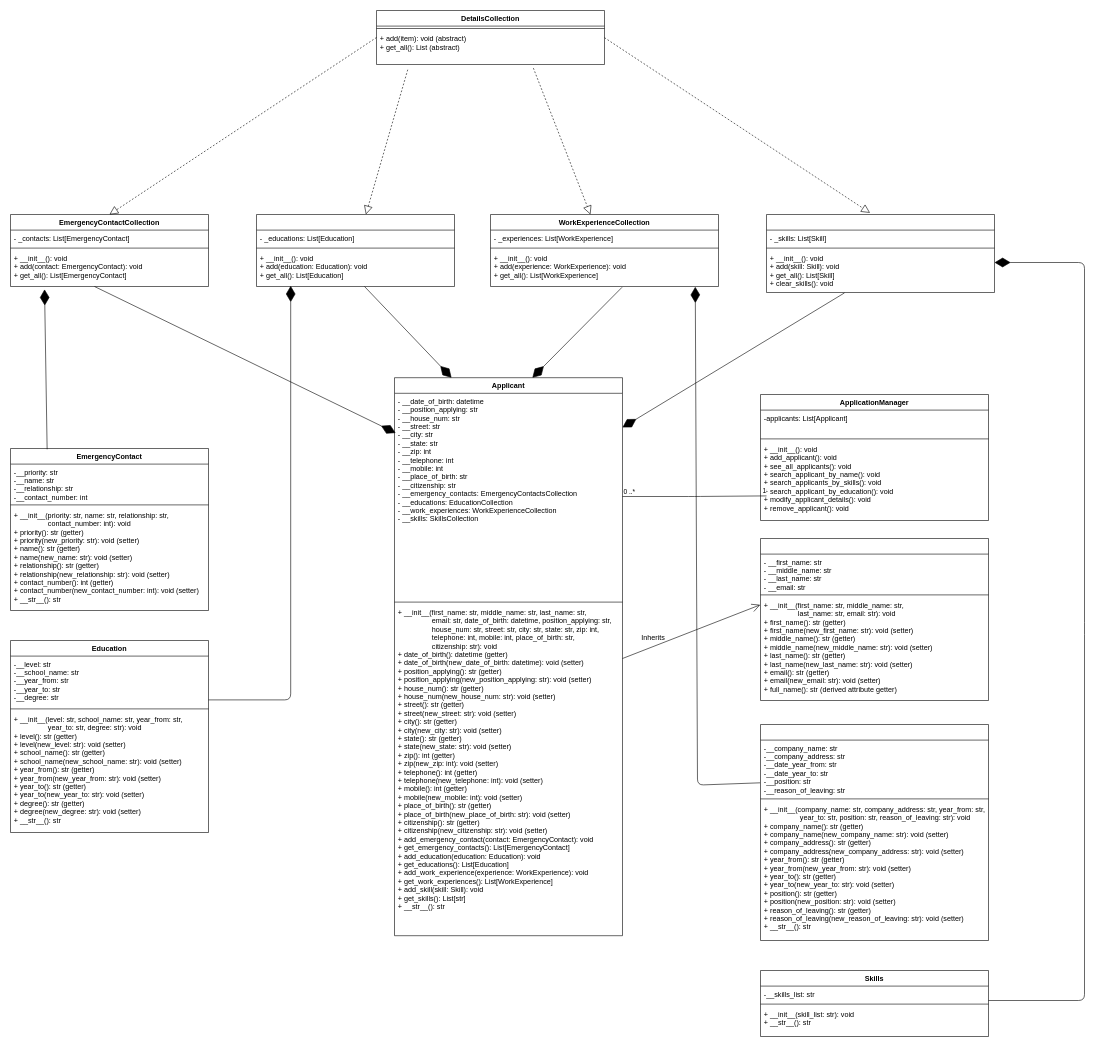
Some shapes in this 1111 by 1049 pixel diagram are drawn without their labels. Each missing label, with the box of its shape:
EducationCollection: (256, 214, 454, 286)
Person: (760, 538, 988, 700)
SkillsCollection: (766, 214, 994, 292)
WorkExperience: (760, 724, 988, 940)
